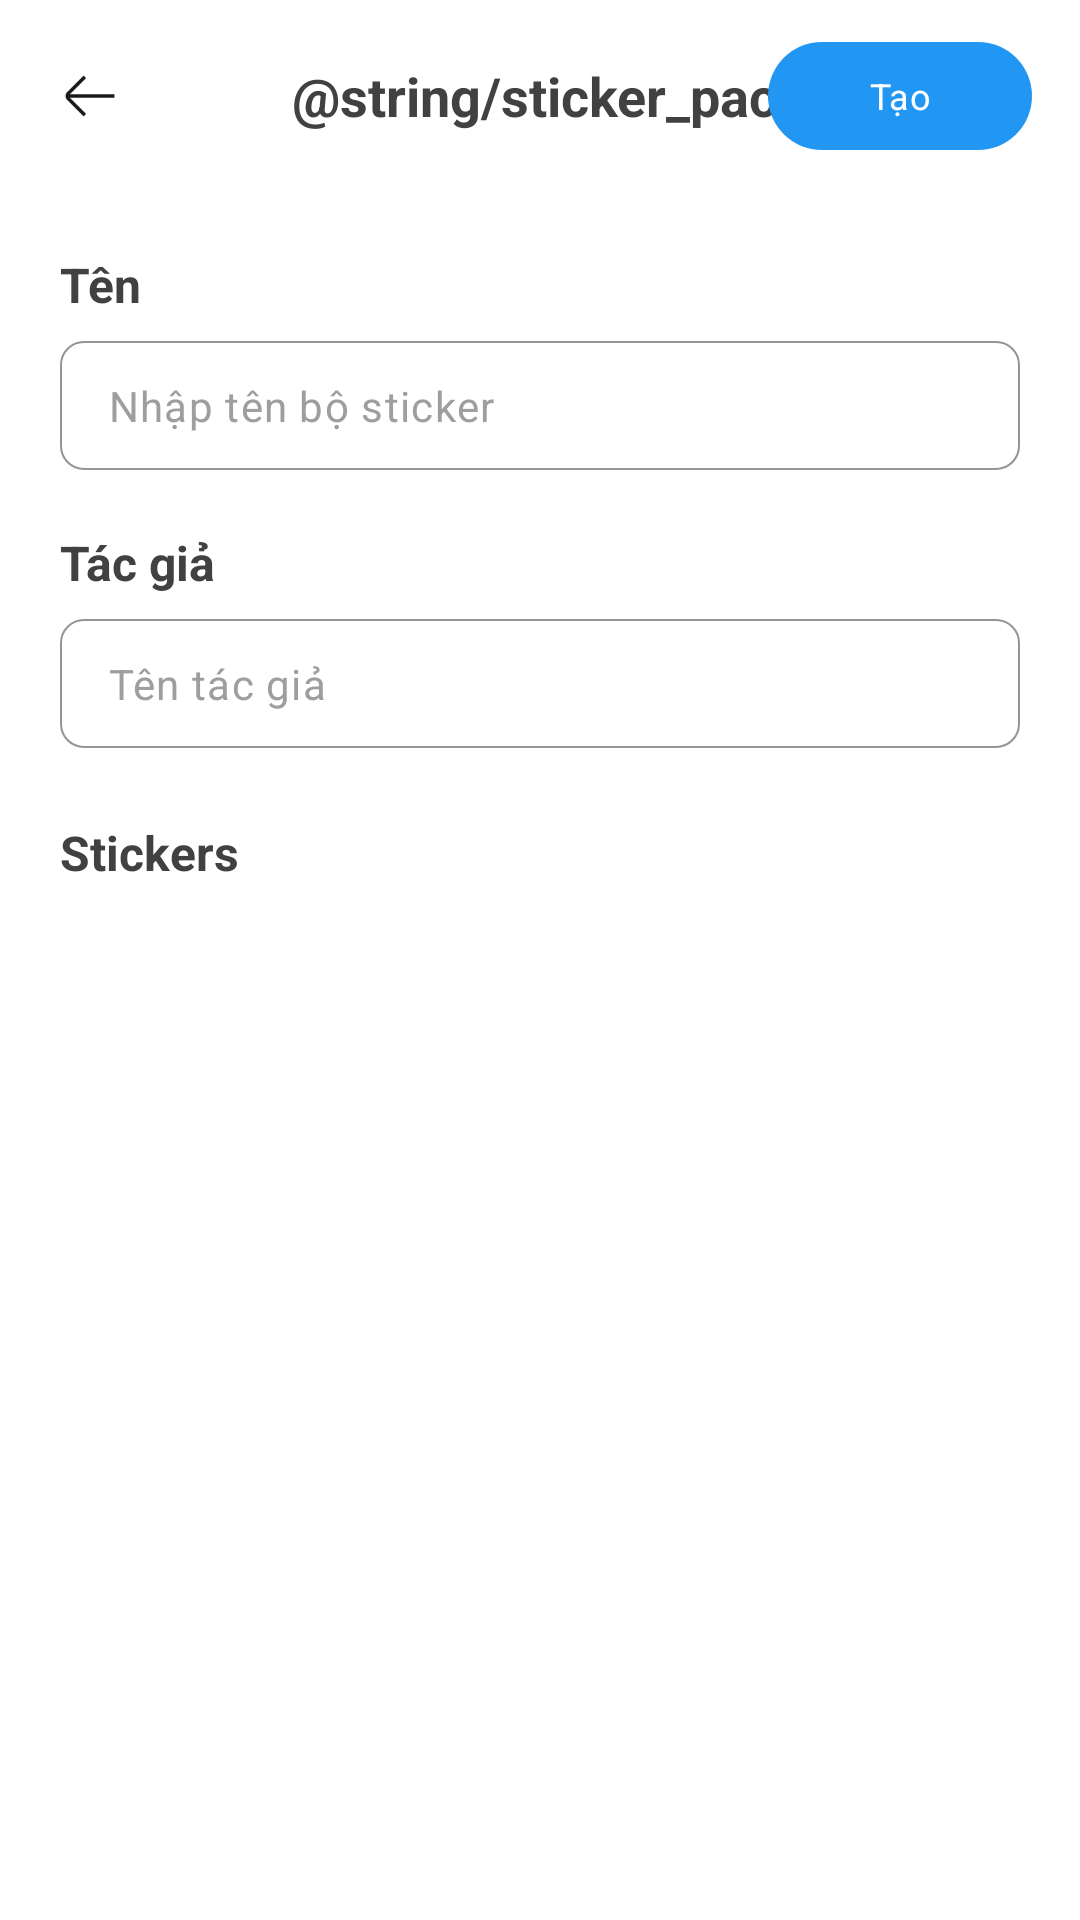

Where icons sit on this 1080px x 1920px app screen, as (x1, y1, x2, y2):
Previous: (65, 75, 115, 117)
